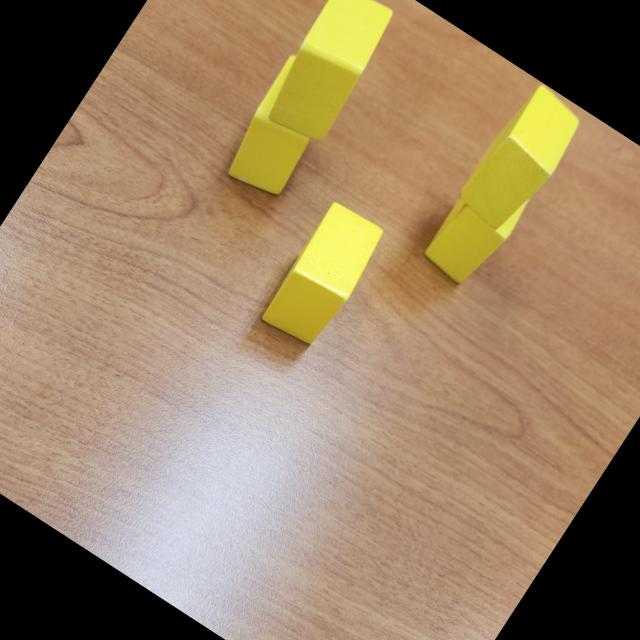yellow: (252, 0, 404, 151), (450, 78, 590, 240), (216, 51, 350, 206), (257, 198, 390, 352), (418, 160, 536, 294)
